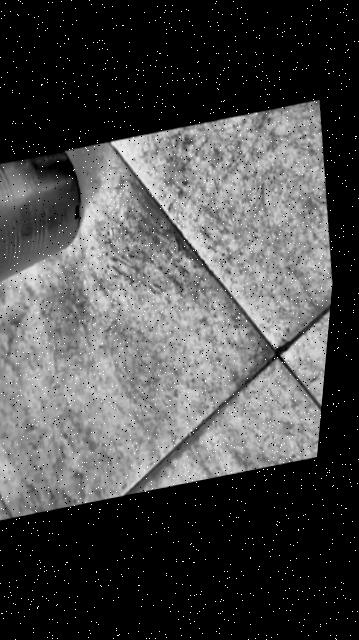pot: (0, 147, 95, 304)
